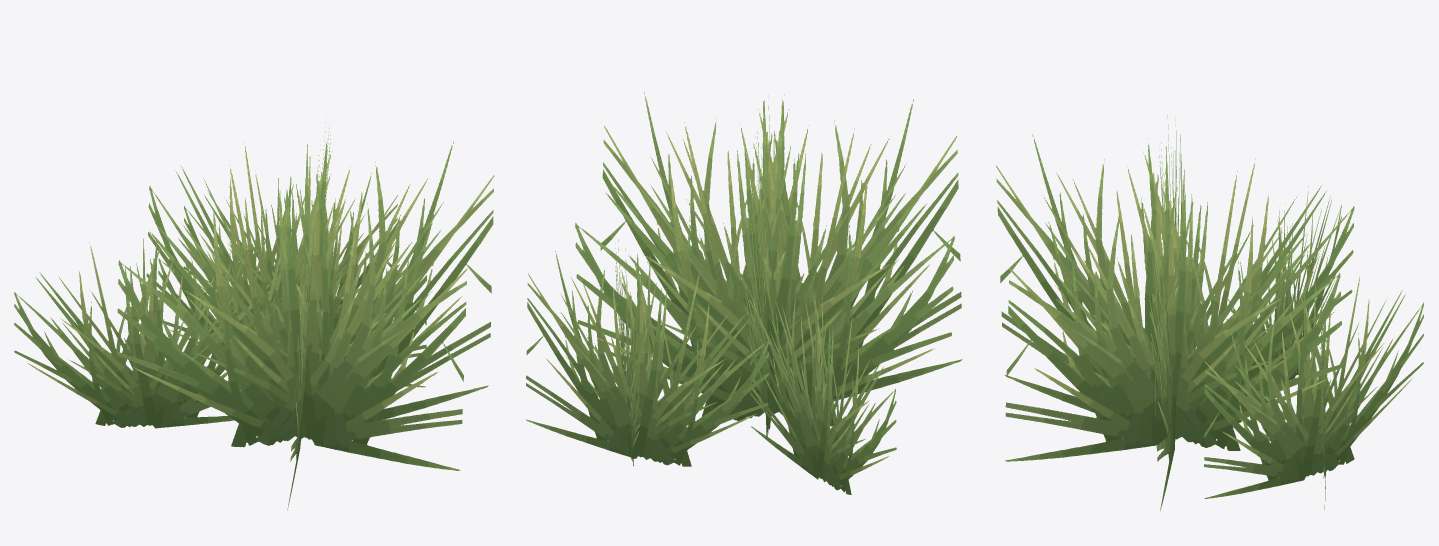
File: grass_tuft.glb
3 views of the same model, side by side, from view 1: azimuth 30°, elevation 25°; view 2: azimuth 150°, elevation 25°; view 3: azimuth 270°, elevation 25° (orthographic). The views are drawn at different scales.
Parts seen in each view (by area): view 1: grass_tuft; view 2: grass_tuft; view 3: grass_tuft.
Part boxes in pixels (bbox=[...]): grass_tuft: bbox=[14, 113, 494, 510]; grass_tuft: bbox=[526, 92, 962, 494]; grass_tuft: bbox=[996, 115, 1423, 510].
Size of the model in its own units: 0.8722 by 0.7432 by 0.8512.
Materials: 1 (1 with a texture image).
